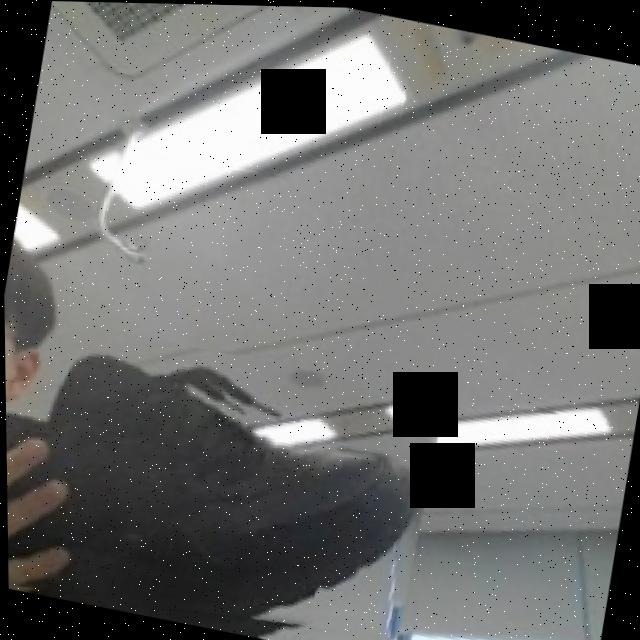shoe: (4, 309, 448, 640)
